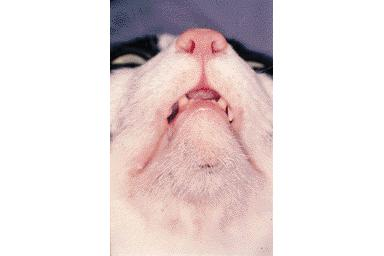acne: (197, 158, 216, 178)
